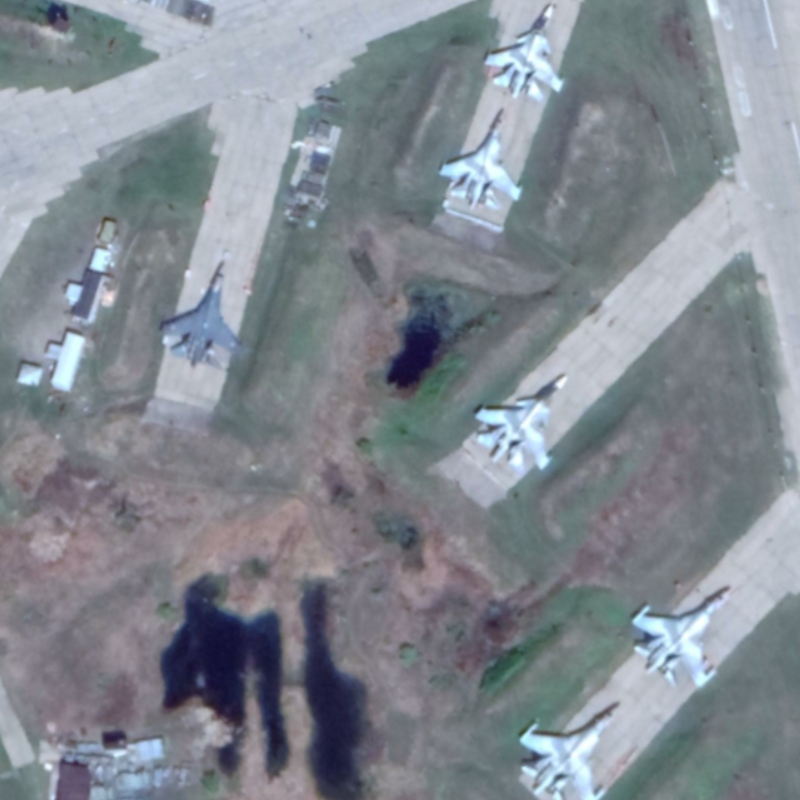A1: (628, 582, 736, 691), (515, 698, 625, 800), (156, 256, 244, 373), (435, 106, 525, 215)
A19: (472, 372, 571, 475), (480, 1, 567, 103)
